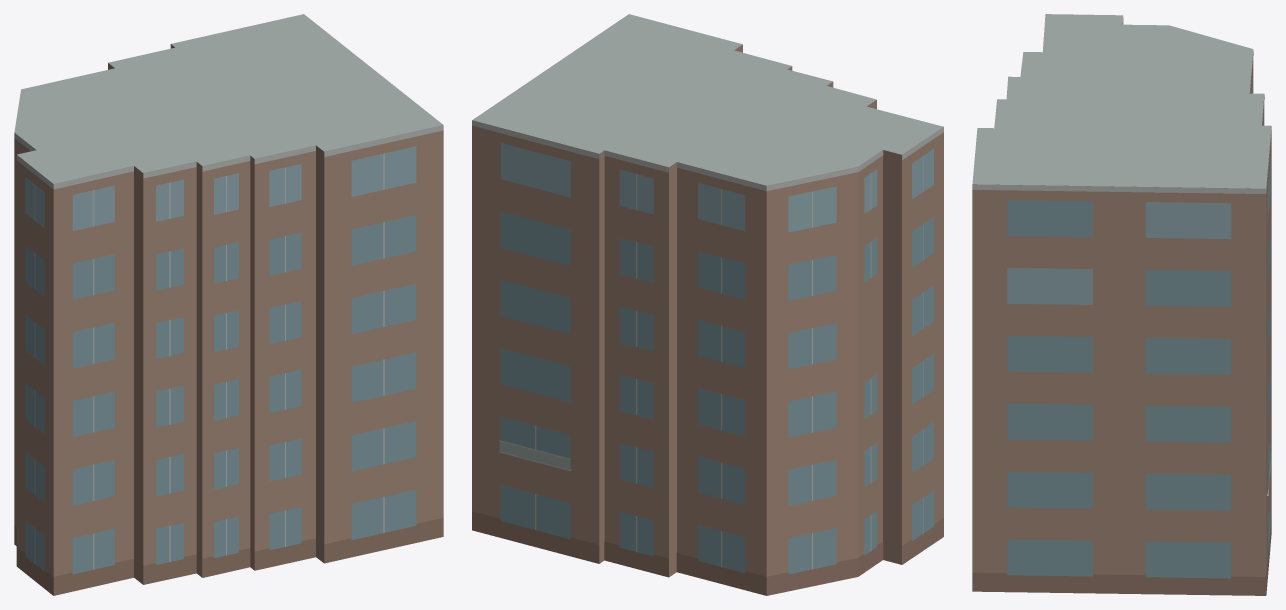
The model's file is survey-upis-32682211.glb.
3 renders of one model, left to right at view 1: azimuth 30°, elevation 25°; view 2: azimuth 150°, elevation 25°; view 3: azimuth 270°, elevation 25°, orthographic.
Parts seen in each view (by area): view 1: survey-upis-32682211.tmp; view 2: survey-upis-32682211.tmp; view 3: survey-upis-32682211.tmp.
Boxes of the visible parts, x1,y1,x2,y2 form: survey-upis-32682211.tmp: (14, 14, 443, 595); survey-upis-32682211.tmp: (472, 14, 943, 595); survey-upis-32682211.tmp: (972, 14, 1271, 595).
Bounding box in the file's own units: 16.85 × 18.3 × 12.2.
